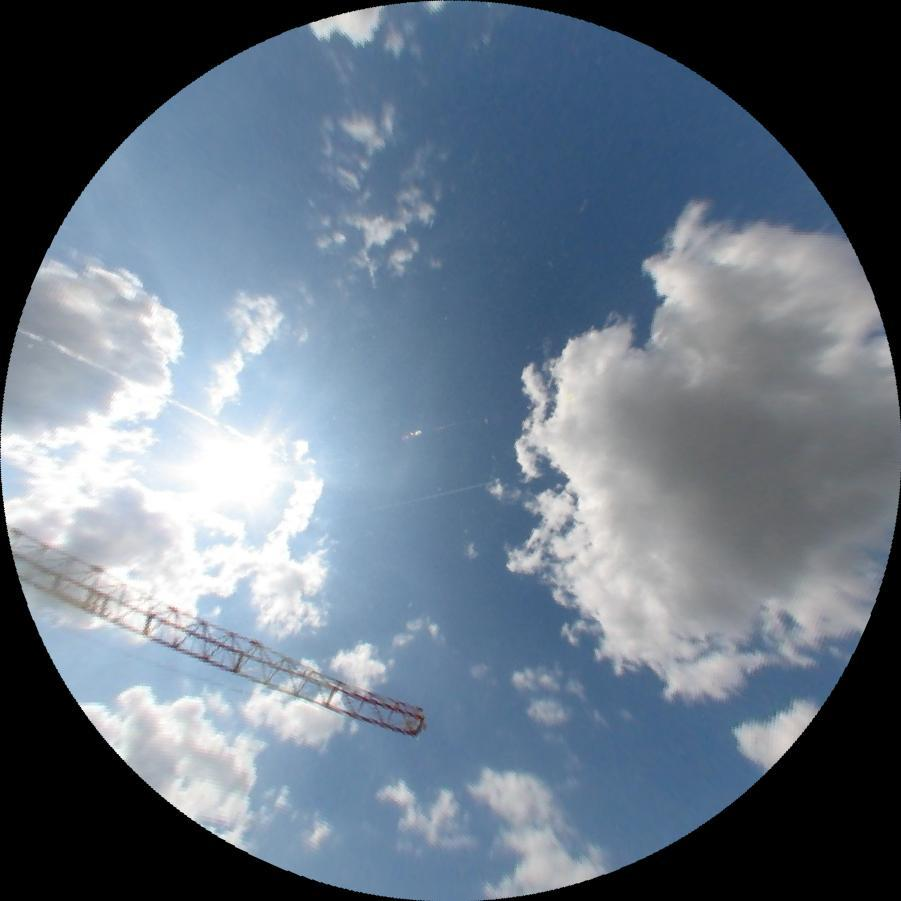contrail young: (356, 480, 494, 515)
parasite: (15, 325, 274, 451)
sun: (180, 415, 295, 516)
